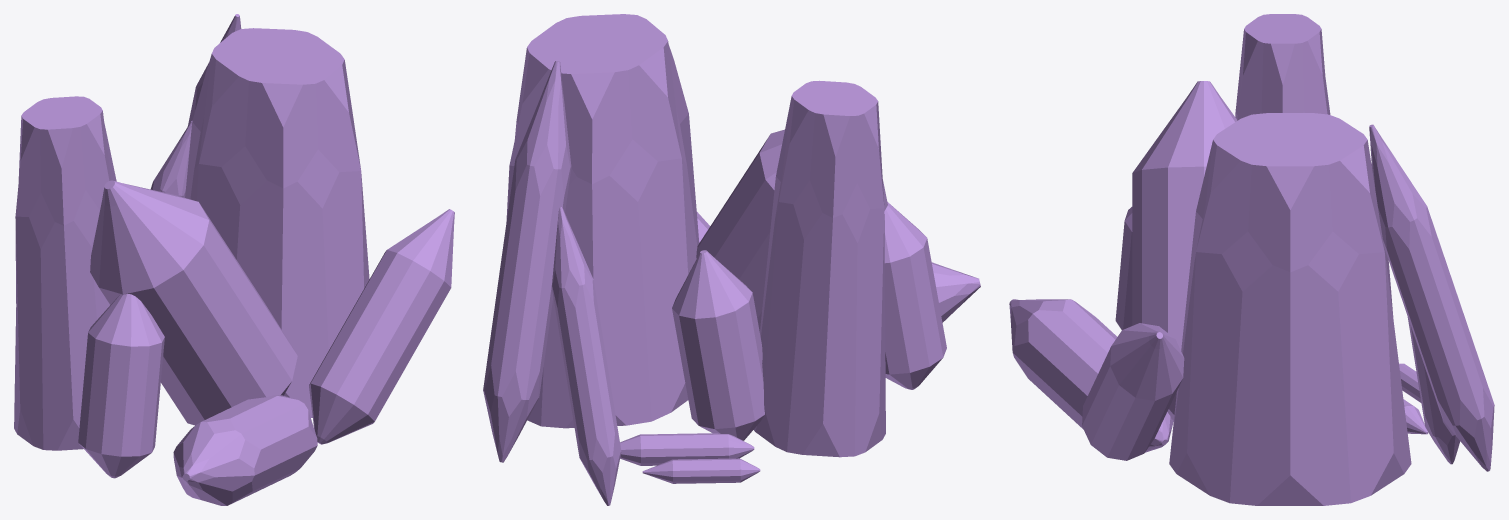
The model's file is CrystalCluster.fbx.
3 views of the same model, side by side, from view 1: azimuth 30°, elevation 25°; view 2: azimuth 150°, elevation 25°; view 3: azimuth 270°, elevation 25° (orthographic). The views are drawn at different scales.
Visible parts, largest first — view 1: CrystalCluster; view 2: CrystalCluster; view 3: CrystalCluster.
Boxes of the visible parts, x1,y1,x2,y2 form: CrystalCluster: [14, 14, 454, 505]; CrystalCluster: [483, 14, 980, 505]; CrystalCluster: [1009, 14, 1494, 505].
Bounding box in the file's own units: 351 × 327 × 375.
